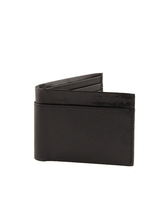other: (29, 73, 139, 168)
